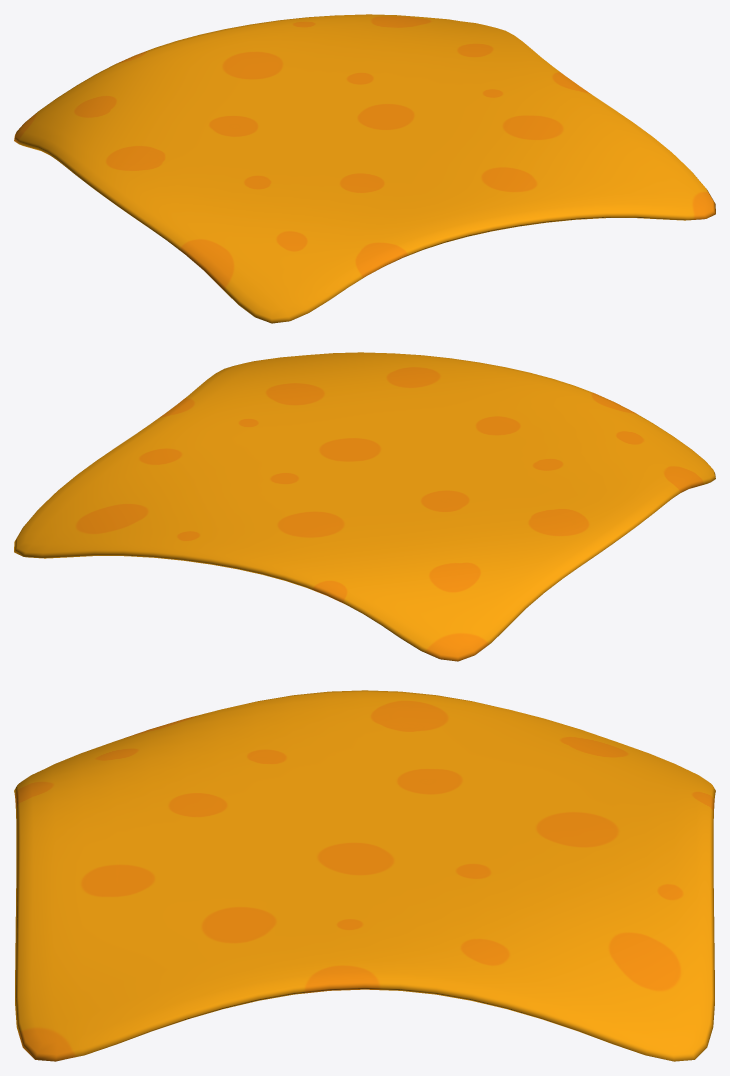
File: Cheese.obj
The picture shows the model from 3 angles, top to bottom: view 1: azimuth 30°, elevation 25°; view 2: azimuth 150°, elevation 25°; view 3: azimuth 270°, elevation 25°; orthographic projection. The views are drawn at different scales.
Visible parts, largest first — view 1: polySurface31 polySurface18; view 2: polySurface31 polySurface18; view 3: polySurface31 polySurface18.
Part boxes in pixels (bbox=[...]): polySurface31 polySurface18: bbox=[14, 14, 715, 323]; polySurface31 polySurface18: bbox=[14, 352, 715, 661]; polySurface31 polySurface18: bbox=[14, 690, 715, 1061].
Bounding box in the file's own units: 1.73 × 0.1896 × 1.64.
1 material, 1 textured.
